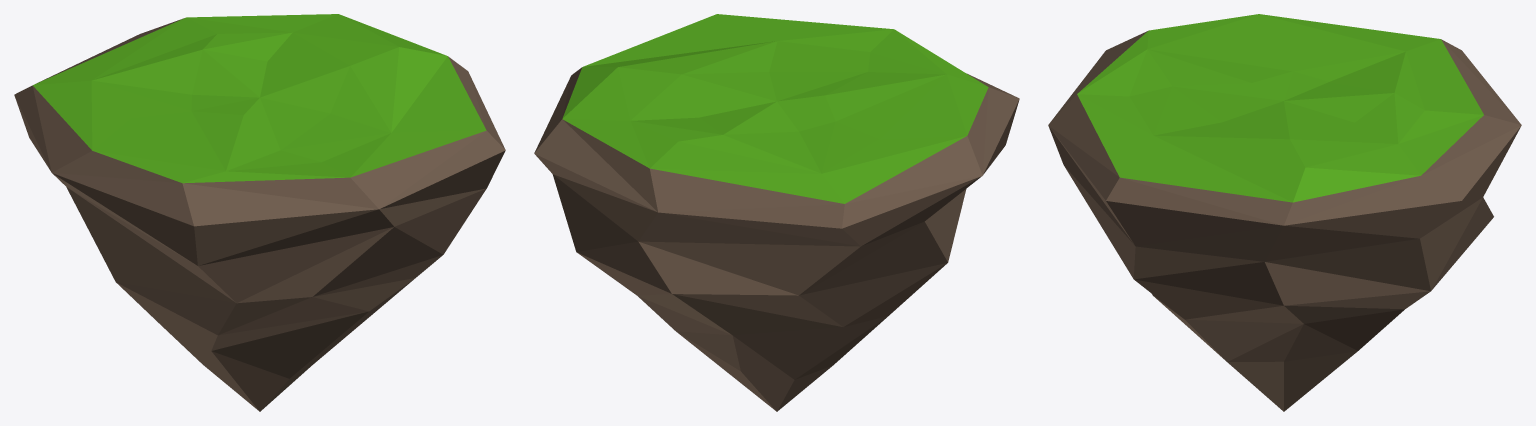
The model's file is Isl_7_Base.fbx.
3 views of the same model, side by side, from view 1: azimuth 30°, elevation 25°; view 2: azimuth 150°, elevation 25°; view 3: azimuth 270°, elevation 25° (orthographic).
Visible parts, largest first — view 1: Isl_7_Base; view 2: Isl_7_Base; view 3: Isl_7_Base.
Boxes of the visible parts, bbox=[...] form: Isl_7_Base: bbox=[14, 14, 505, 411]; Isl_7_Base: bbox=[534, 14, 1019, 411]; Isl_7_Base: bbox=[1048, 14, 1521, 411].
Size of the model in its own units: 2099 by 2090 by 1550.
1 material, 1 textured.
